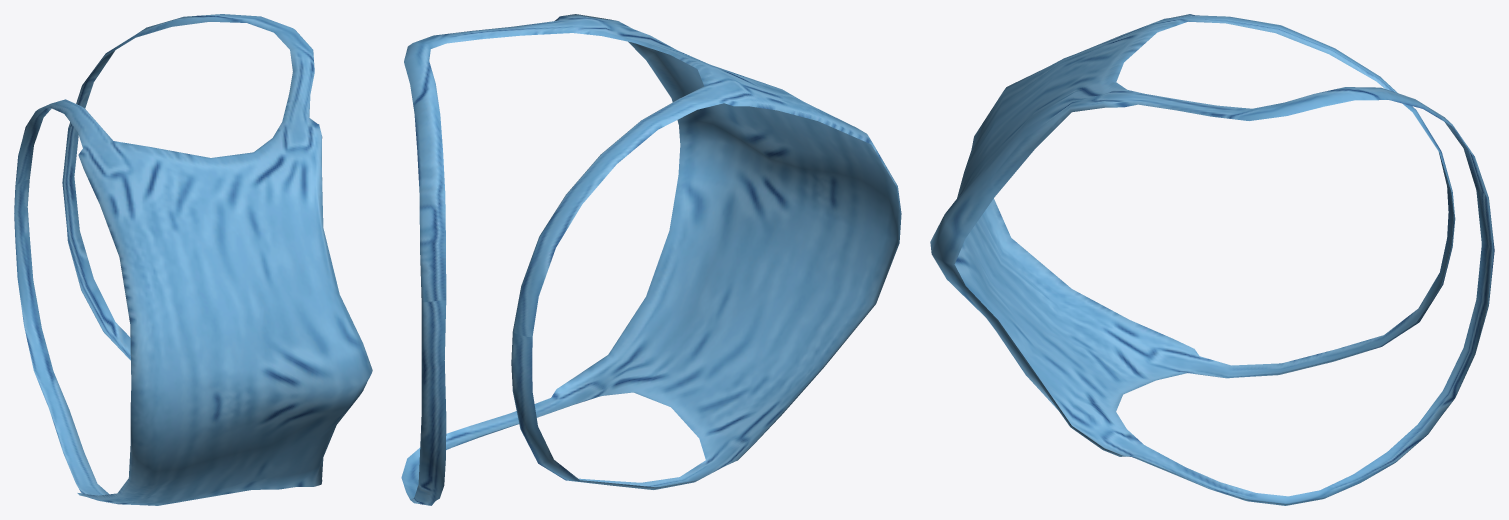
File: F_DentistSurgicalMask.fbx
The picture shows the model from 3 angles, left to right: view 1: azimuth 30°, elevation 25°; view 2: azimuth 150°, elevation 25°; view 3: azimuth 270°, elevation 25°; orthographic projection. The views are drawn at different scales.
Visible parts, largest first — view 1: DentistSurgicalMask; view 2: DentistSurgicalMask; view 3: DentistSurgicalMask.
Boxes of the visible parts, bbox=[...] form: DentistSurgicalMask: bbox=[14, 14, 372, 505]; DentistSurgicalMask: bbox=[401, 14, 901, 505]; DentistSurgicalMask: bbox=[930, 14, 1494, 505].
Bounding box in the file's own units: 0.0933 × 0.1137 × 0.1452.
